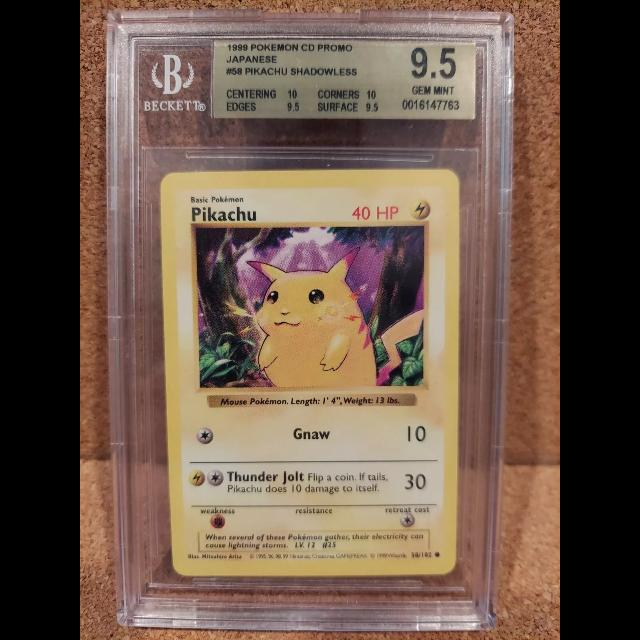bgs_label: (212, 39, 477, 119)
bgs_slab: (107, 9, 516, 631)
card: (159, 167, 459, 576)
